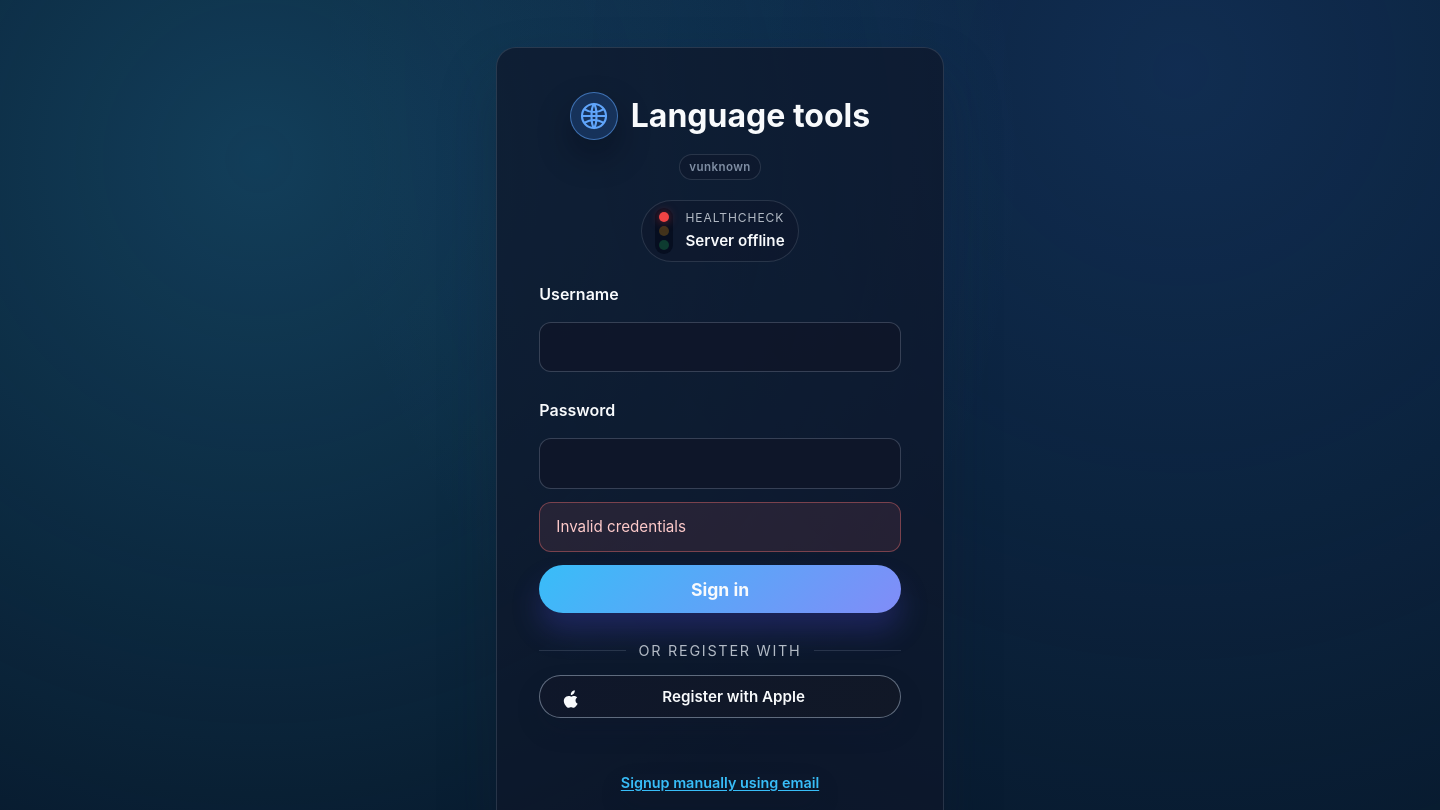
Test: authentication flows › logs out the current user when requested
Type "alice" into the field labelled "Username" at (720, 347), box [539,322,901,372]
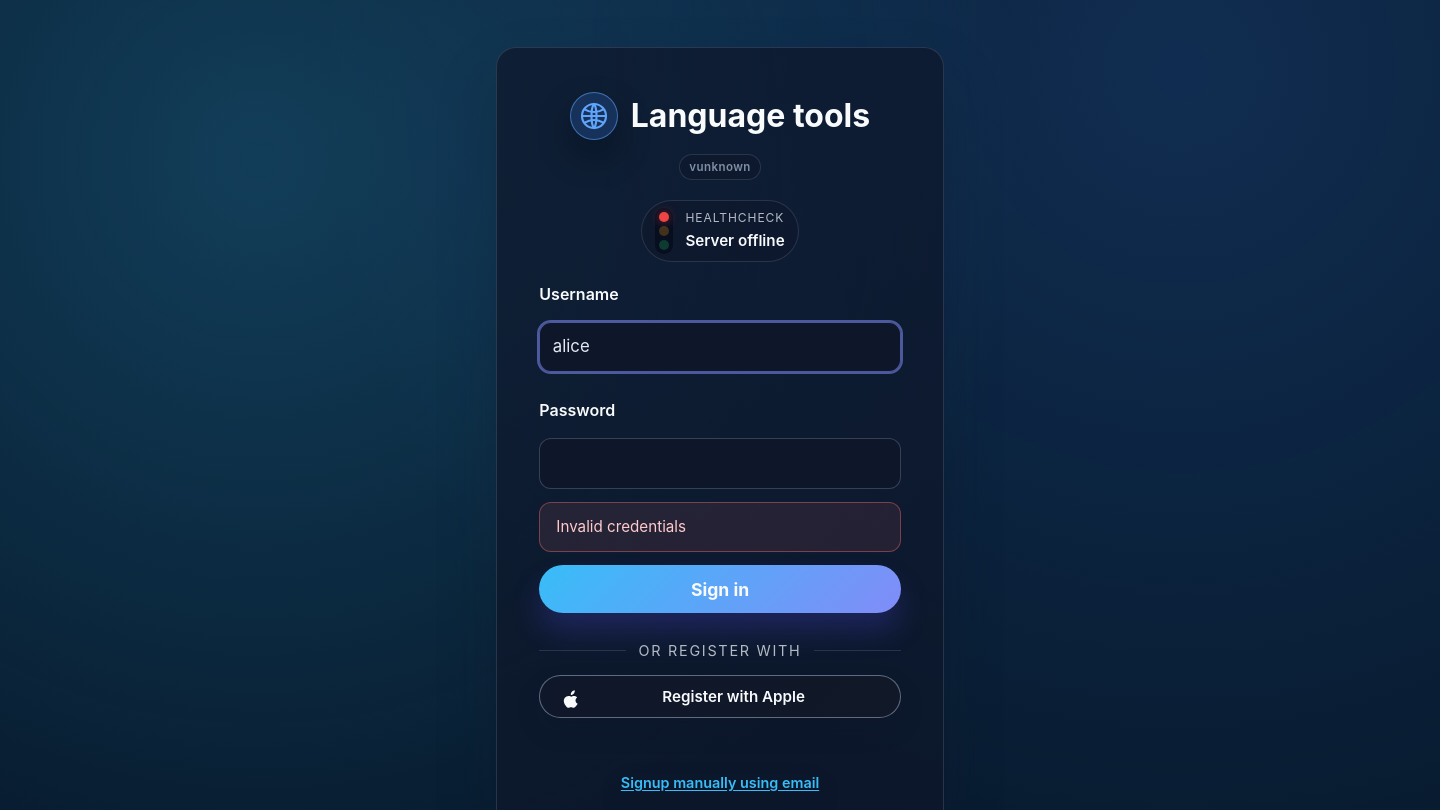
Type "secret" into the password field labelled "Password" at (720, 464), box [539,438,901,489]
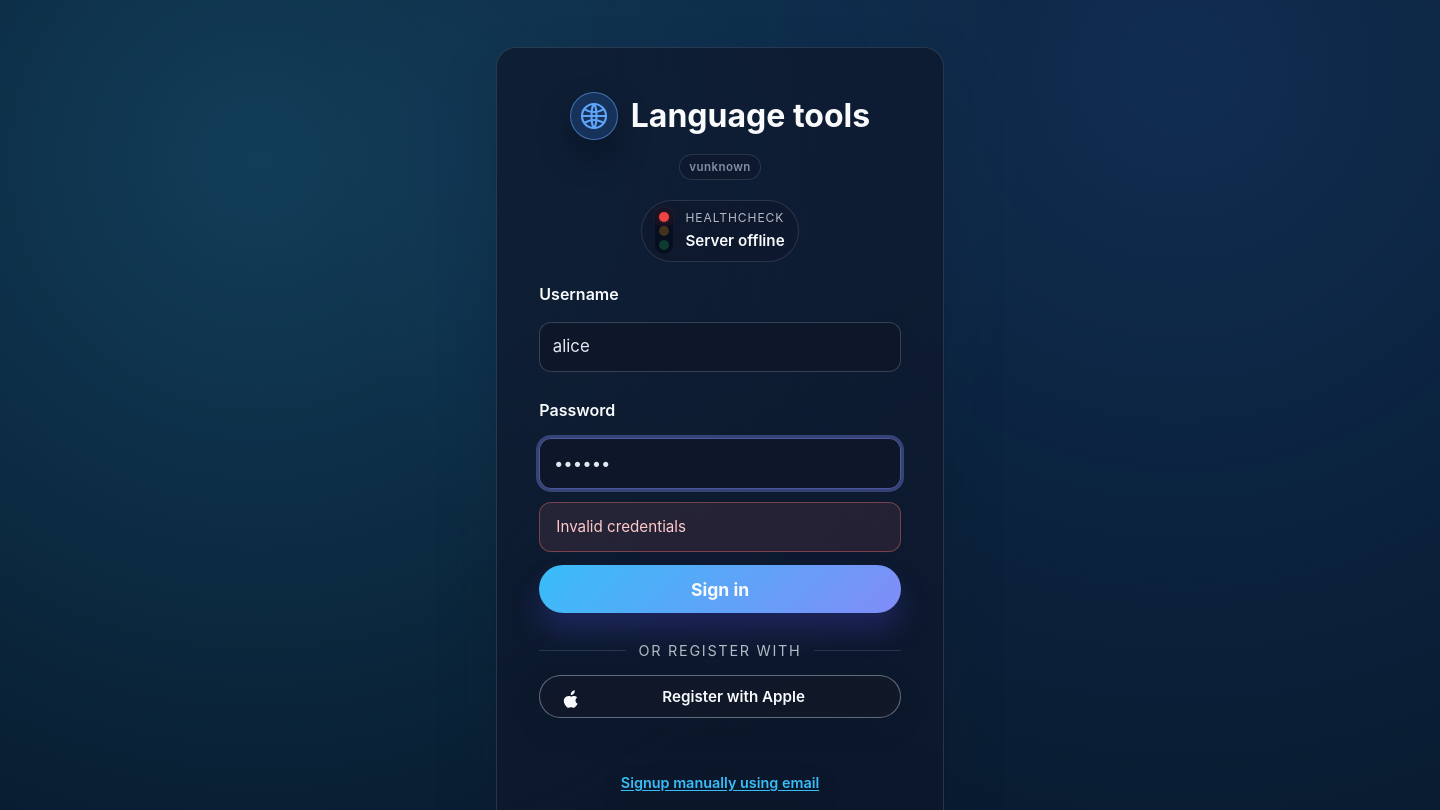
Click the button "Sign in" at (720, 589), box [539,565,901,613]
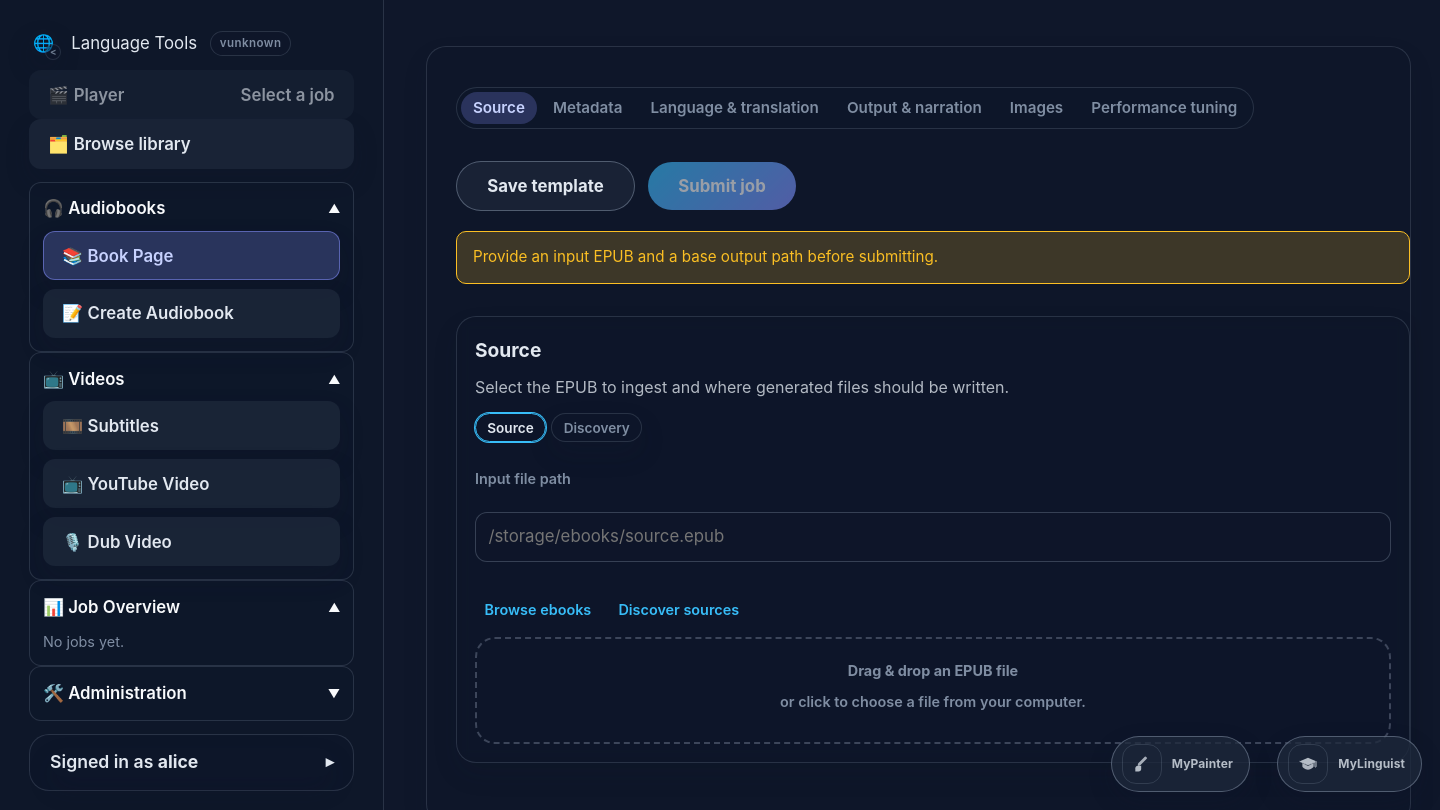
Expected: the text "Signed in as alice" is shown, [50,748,198,776]
Click the button "Signed in as alice ▾" at (192, 762), box [50,748,333,777]
(page scrolled)
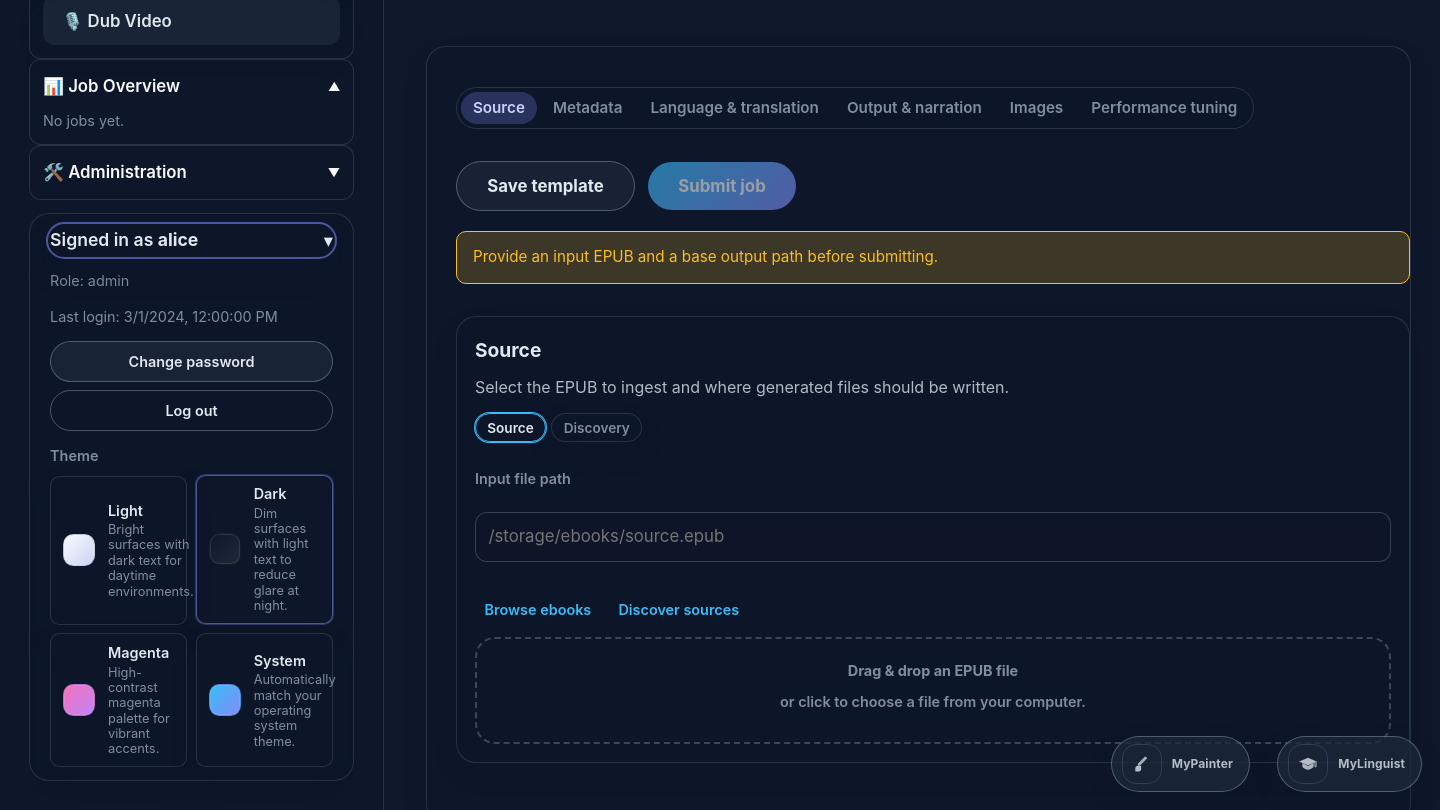
Expected: the button "Change password" is shown, [50,341,333,382]
Click the button "Log out" at (192, 411), box [50,390,333,431]
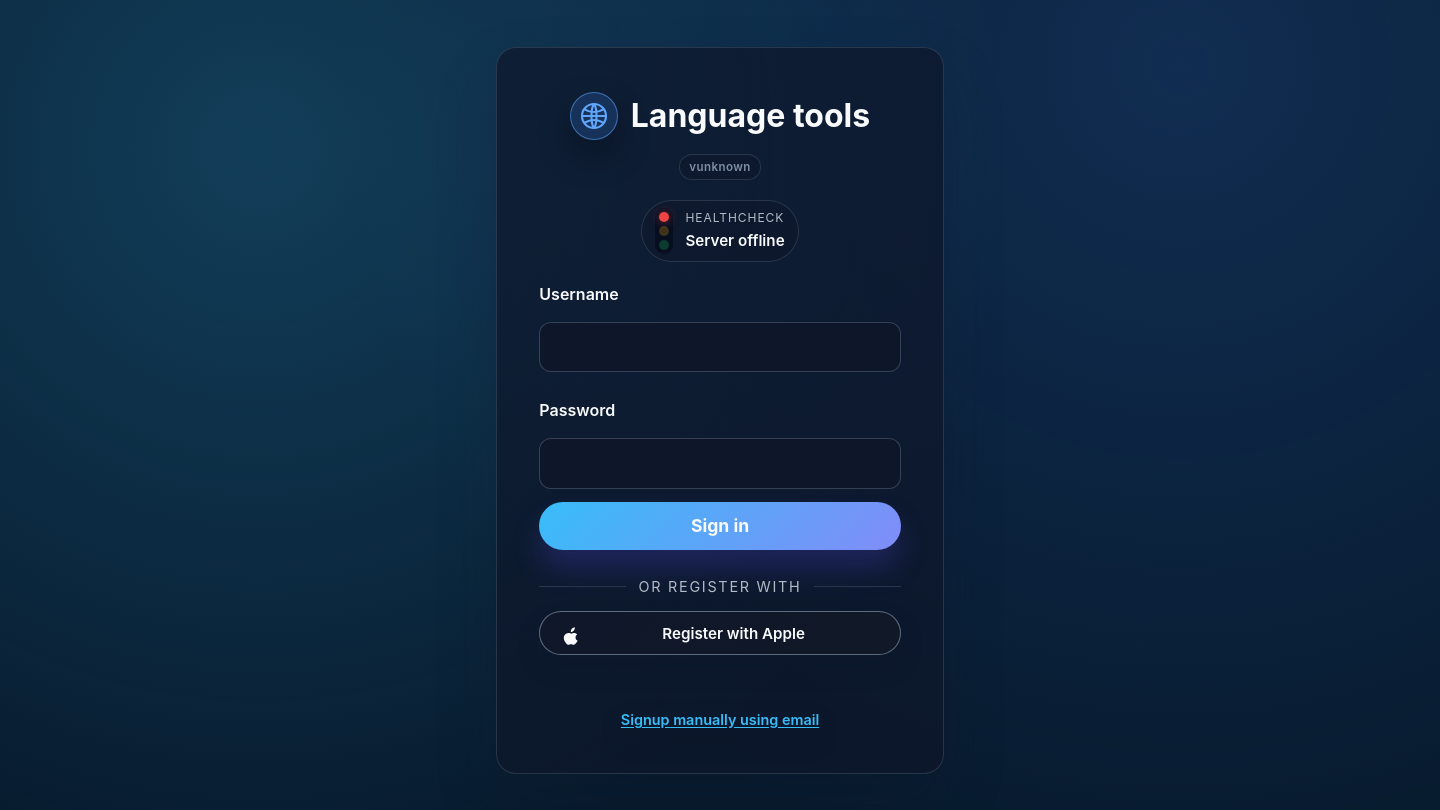
Expected: the button "Sign in" is shown, [539,502,901,550]
